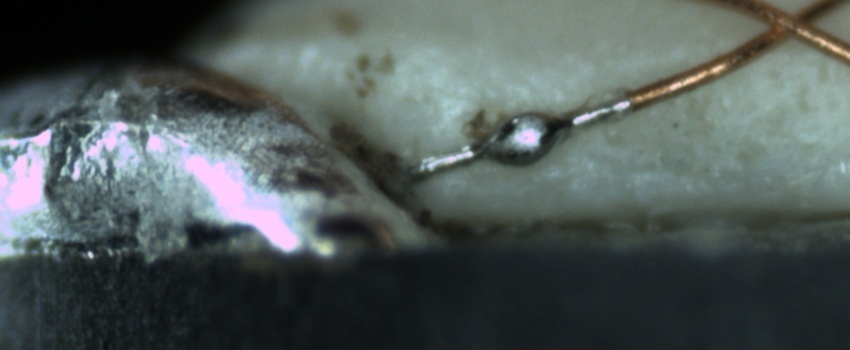CL: (748, 0, 837, 49)
TB: (471, 106, 562, 169)
TS: (406, 99, 631, 185)
TTCW: (388, 74, 681, 198)
